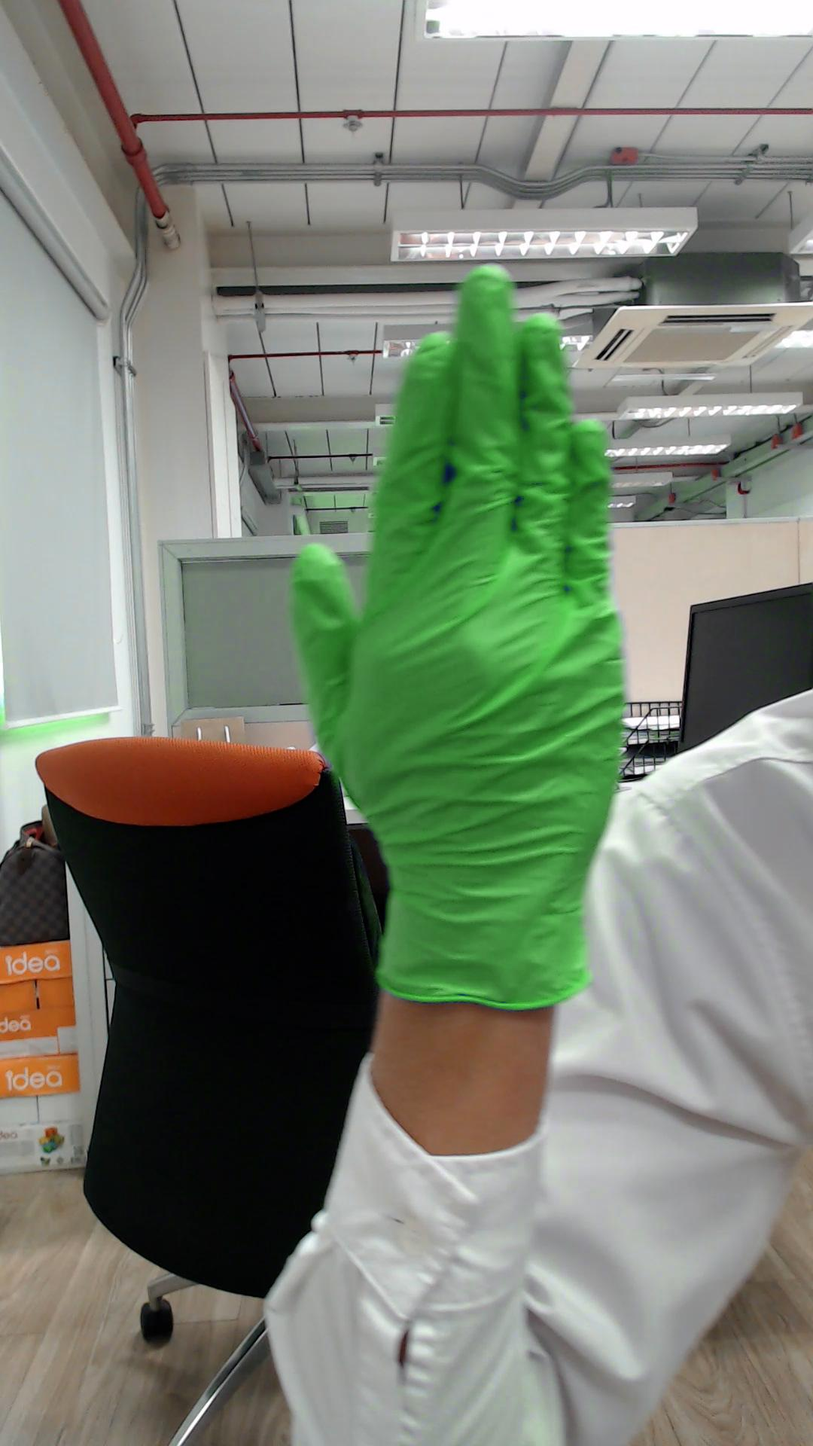gloves: (291, 260, 640, 828)
